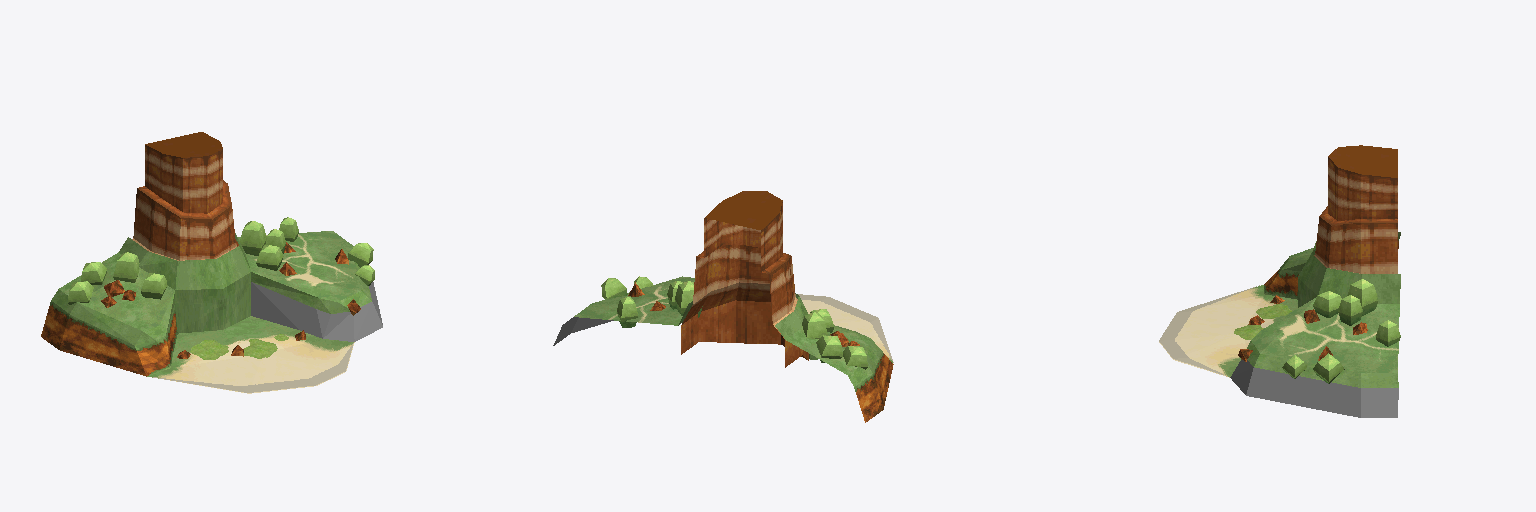
The picture shows the model from 3 angles: view 1: azimuth 30°, elevation 25°; view 2: azimuth 150°, elevation 25°; view 3: azimuth 270°, elevation 25°; orthographic projection.
Parts seen in each view (by area): view 1: group Southern_Island:polygon10, group Southern_Island:polygon8, group Southern_Island:polygon7, group Southern_Island:polygon12, group Southern_Island:polygon5, group Southern_Island:polygon3, group Southern_Island:polygon6, group Southern_Island:polygon9, group Southern_Island:polygon1, Southern_Island:polygon0 group, group Southern_Island:polygon2, group Southern_Island:polygon11 (+1 smaller); view 2: group Southern_Island:polygon10, group Southern_Island:polygon12, group Southern_Island:polygon3, Southern_Island:polygon0 group, group Southern_Island:polygon5, group Southern_Island:polygon1, group Southern_Island:polygon8, group Southern_Island:polygon2, group Southern_Island:polygon7, group Southern_Island:polygon9, group Southern_Island:polygon6; view 3: group Southern_Island:polygon10, group Southern_Island:polygon3, group Southern_Island:polygon6, group Southern_Island:polygon8, group Southern_Island:polygon12, group Southern_Island:polygon7, group Southern_Island:polygon9, Southern_Island:polygon0 group, group Southern_Island:polygon2, group Southern_Island:polygon5, group Southern_Island:polygon11, group Southern_Island:polygon4.
Part boxes in pixels (x1,y1,x2,y2): group Southern_Island:polygon10: (132, 145, 238, 260); group Southern_Island:polygon8: (147, 316, 354, 393); group Southern_Island:polygon7: (119, 233, 250, 333); group Southern_Island:polygon12: (68, 217, 374, 304); group Southern_Island:polygon5: (41, 301, 177, 376); group Southern_Island:polygon3: (238, 231, 360, 301); group Southern_Island:polygon6: (251, 282, 382, 341); group Southern_Island:polygon9: (51, 244, 371, 345); group Southern_Island:polygon1: (59, 252, 174, 330); Southern_Island:polygon0 group: (145, 132, 222, 157); group Southern_Island:polygon2: (153, 343, 353, 392); group Southern_Island:polygon11: (101, 242, 360, 358); group Southern_Island:polygon10: (681, 202, 808, 367); group Southern_Island:polygon12: (601, 276, 867, 369); group Southern_Island:polygon3: (574, 276, 694, 325); Southern_Island:polygon0 group: (705, 191, 782, 229); group Southern_Island:polygon5: (810, 351, 893, 422); group Southern_Island:polygon1: (786, 325, 870, 374); group Southern_Island:polygon8: (802, 300, 892, 362); group Southern_Island:polygon2: (798, 294, 893, 362); group Southern_Island:polygon7: (678, 293, 809, 358); group Southern_Island:polygon9: (848, 339, 881, 386); group Southern_Island:polygon6: (553, 317, 613, 345); group Southern_Island:polygon10: (1314, 157, 1397, 273); group Southern_Island:polygon3: (1251, 297, 1399, 372); group Southern_Island:polygon6: (1230, 359, 1398, 417); group Southern_Island:polygon8: (1159, 285, 1297, 377); group Southern_Island:polygon12: (1282, 241, 1400, 383); group Southern_Island:polygon7: (1298, 232, 1400, 307); group Southern_Island:polygon9: (1247, 256, 1398, 387); Southern_Island:polygon0 group: (1328, 145, 1397, 177); group Southern_Island:polygon2: (1159, 285, 1259, 375); group Southern_Island:polygon5: (1264, 239, 1398, 299); group Southern_Island:polygon11: (1238, 295, 1367, 361); group Southern_Island:polygon4: (1234, 304, 1291, 339).
Size of the model in its own units: 9.79 by 5.27 by 6.58.
Materials: 13 (11 with a texture image).